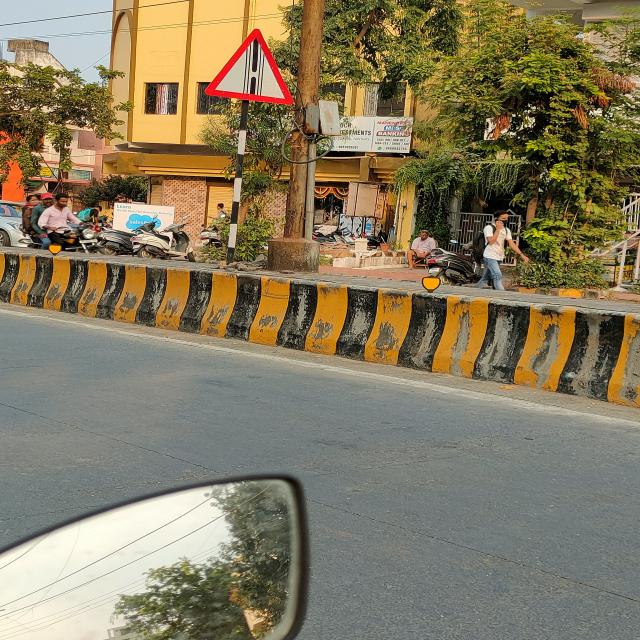GAP_IN_MEDIAN: (203, 26, 298, 104)
